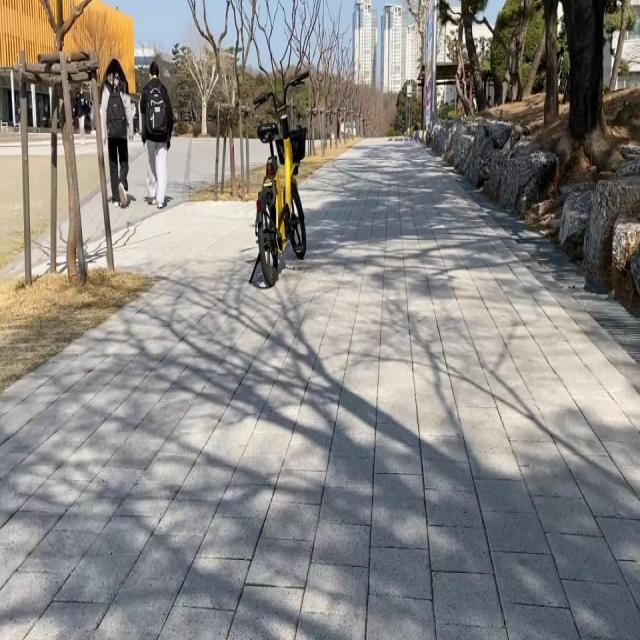sidewalk: (0, 138, 640, 638)
